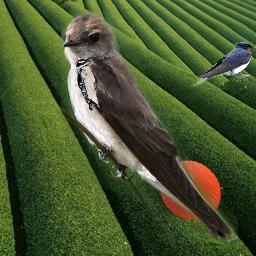Swallow: (61, 11, 238, 243), (189, 42, 256, 88)
Woodpecker: (76, 59, 101, 111)
